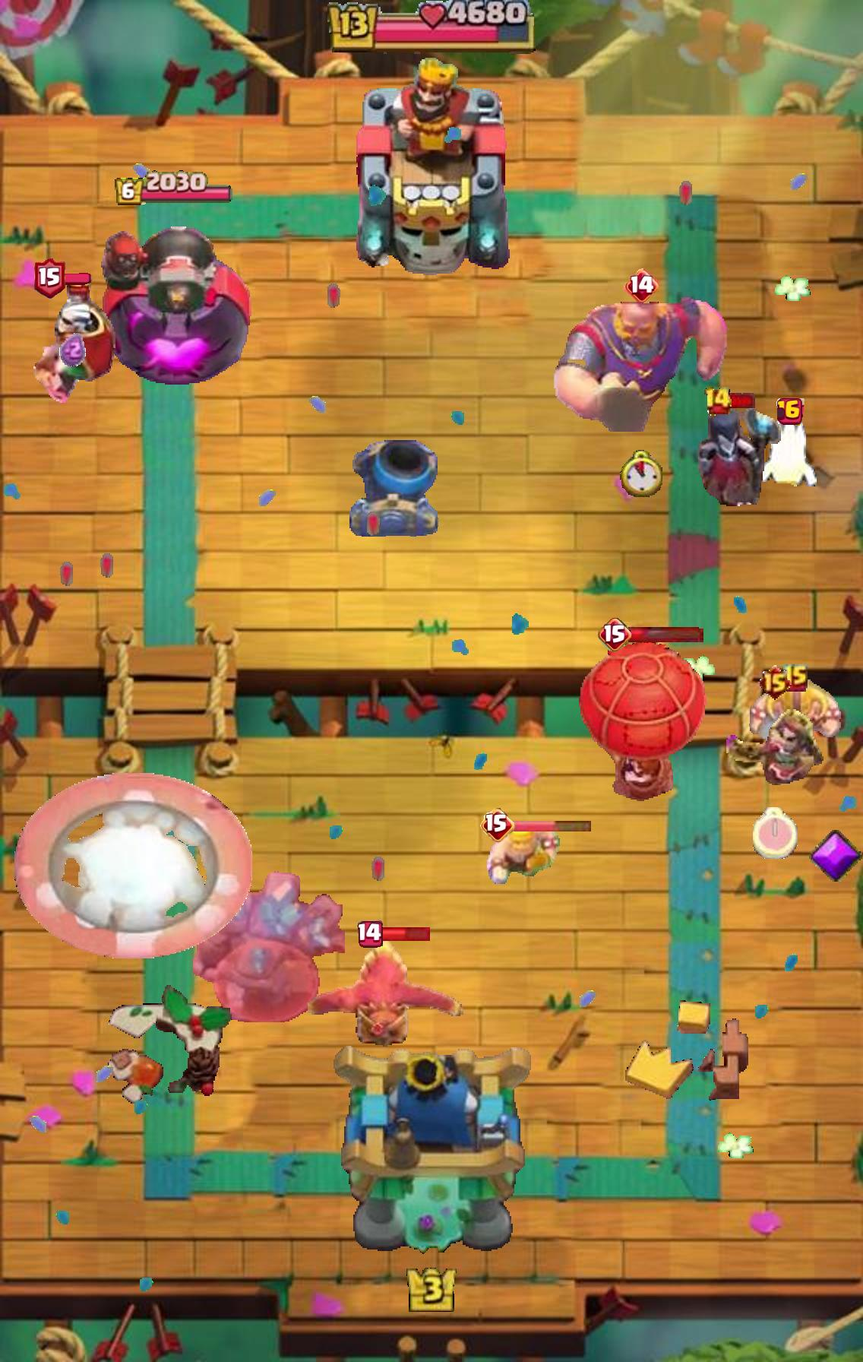bar: (628, 626, 704, 643), (511, 819, 593, 832), (379, 925, 432, 943), (729, 392, 757, 410), (63, 272, 92, 285)
bar-level: (757, 664, 792, 701), (33, 258, 65, 298), (480, 808, 515, 843), (623, 269, 659, 303), (598, 618, 632, 652), (703, 386, 732, 417), (782, 664, 810, 694), (776, 398, 804, 426), (357, 919, 383, 947)
